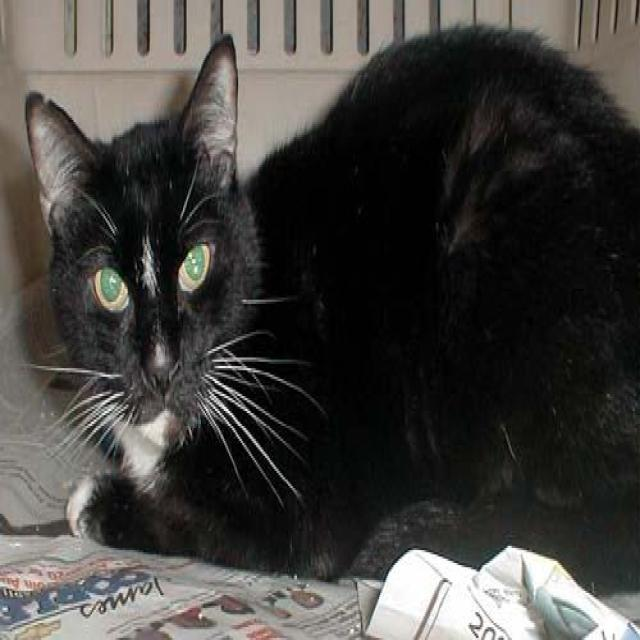Cats: (21, 32, 330, 563)
